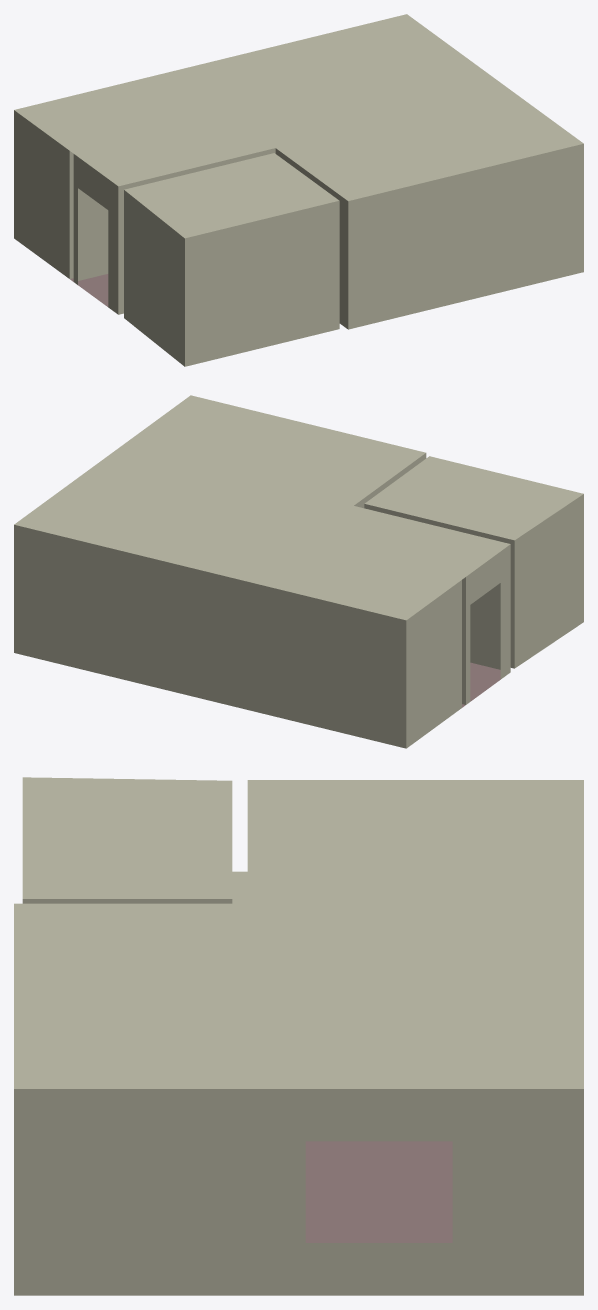
Rendered from Room.fbx.
The picture shows the model from 3 angles, top to bottom: view 1: azimuth 30°, elevation 25°; view 2: azimuth 150°, elevation 25°; view 3: azimuth 270°, elevation 25°; orthographic projection. The views are drawn at different scales.
Visible parts, largest first — view 1: Room; view 2: Room; view 3: Room.
Part boxes in pixels (x1,y1,x2,y2): Room: [14, 14, 583, 366]; Room: [14, 395, 583, 748]; Room: [14, 777, 583, 1295].
Size of the model in its own units: 769 by 238 by 595.
